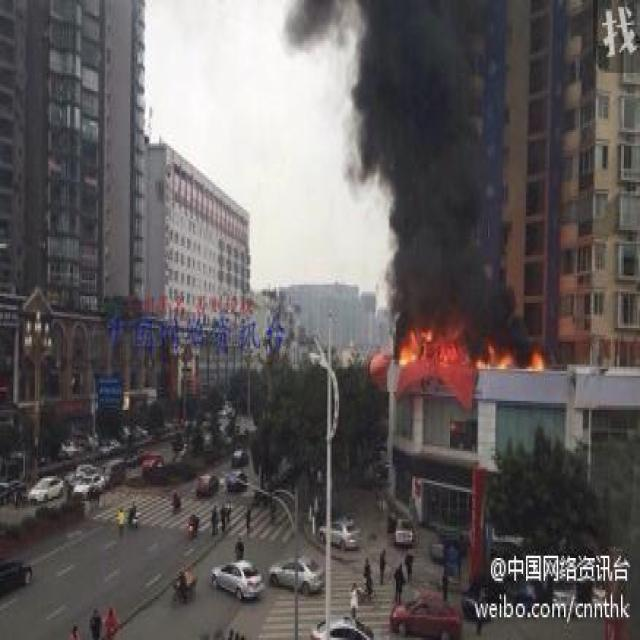fire: (398, 323, 542, 376)
smoke: (288, 0, 525, 344)
